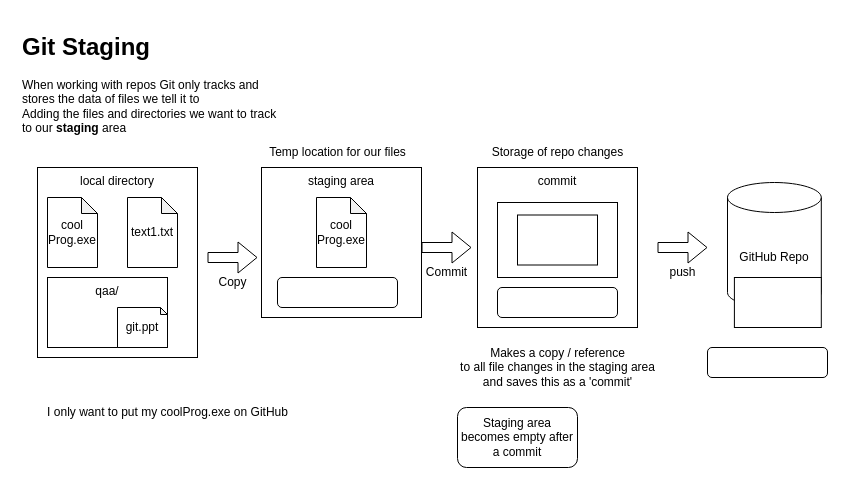
This 845x485 diagram has some shape labels left out. The centre of each missing label's shape, as x and y in pixels:
`git add <filename>`: (337,292)
`git commit -m "adding file"`: (557,302)
`git push -u origin main`: (767,362)
commit 'Adding File': (777,302)
coolProg.exe added: (557,239)
